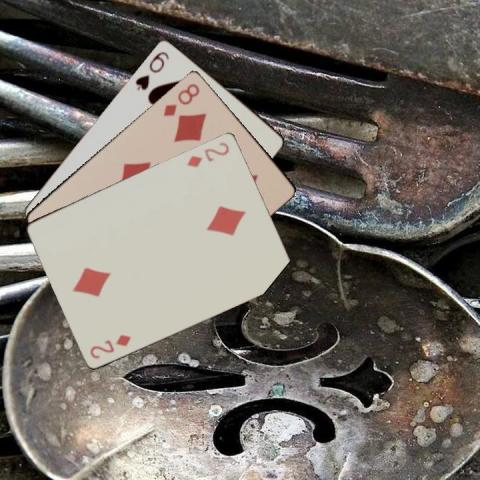2d: (184, 138, 231, 168), (86, 331, 132, 360)
6s: (132, 48, 171, 91)
8d: (160, 80, 201, 118)
